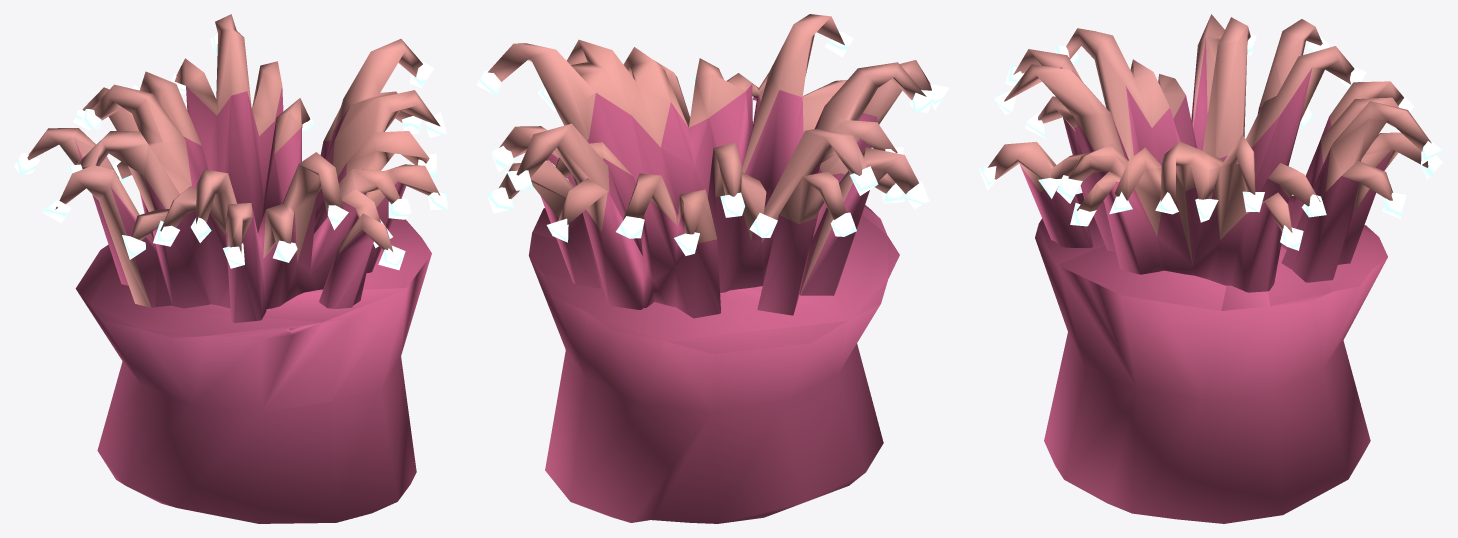
The model's file is shore_anemone_lod2.glb.
The picture shows the model from 3 angles, left to right: view 1: azimuth 30°, elevation 25°; view 2: azimuth 150°, elevation 25°; view 3: azimuth 270°, elevation 25°; orthographic projection. The views are drawn at different scales.
Visible parts, largest first — view 1: shore_anemone.001; view 2: shore_anemone.001; view 3: shore_anemone.001.
Boxes of the visible parts, x1=… form: shore_anemone.001: x1=14, y1=14, x2=447, y2=523; shore_anemone.001: x1=476, y1=14, x2=949, y2=523; shore_anemone.001: x1=978, y1=14, x2=1442, y2=523.
Size of the model in its own units: 5.49 by 4.92 by 5.36.
